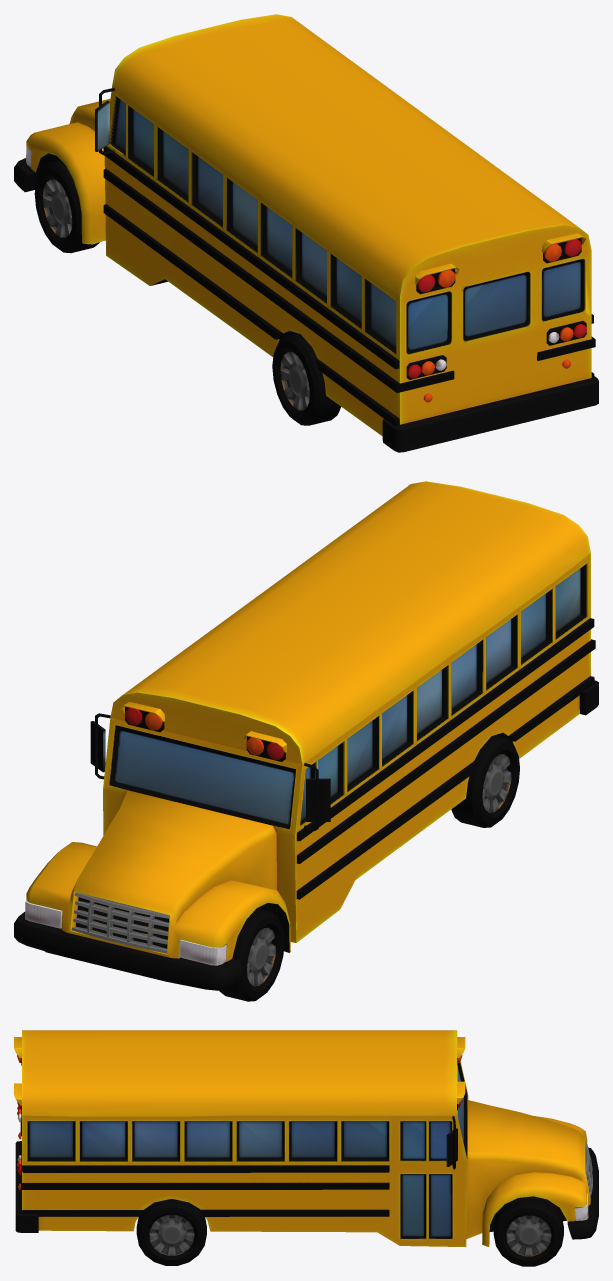
File: bus-school.glb
3 renders of one model, top to bottom at view 1: azimuth 30°, elevation 25°; view 2: azimuth 150°, elevation 25°; view 3: azimuth 270°, elevation 25°, orthographic. The views are drawn at different scales.
Visible parts, largest first — view 1: Object_2; view 2: Object_2; view 3: Object_2.
Boxes of the visible parts, bbox=[...] form: Object_2: bbox=[14, 14, 598, 452]; Object_2: bbox=[14, 481, 598, 1001]; Object_2: bbox=[14, 1030, 598, 1266].
Bounding box in the file's own units: 245 × 227 × 686.
1 material, 1 textured.
